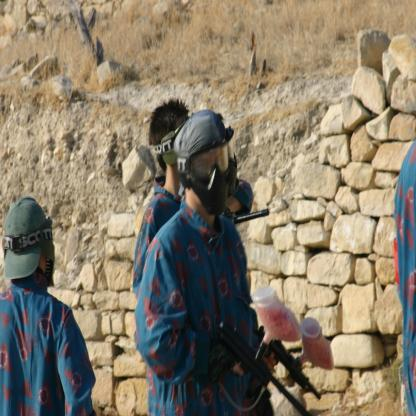Helmet: (172, 112, 238, 220), (8, 200, 53, 294)
